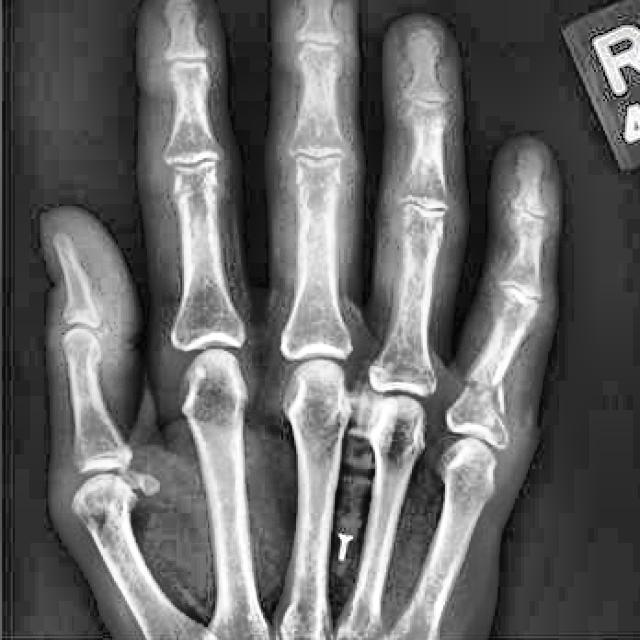fracture: (462, 373, 508, 418)
